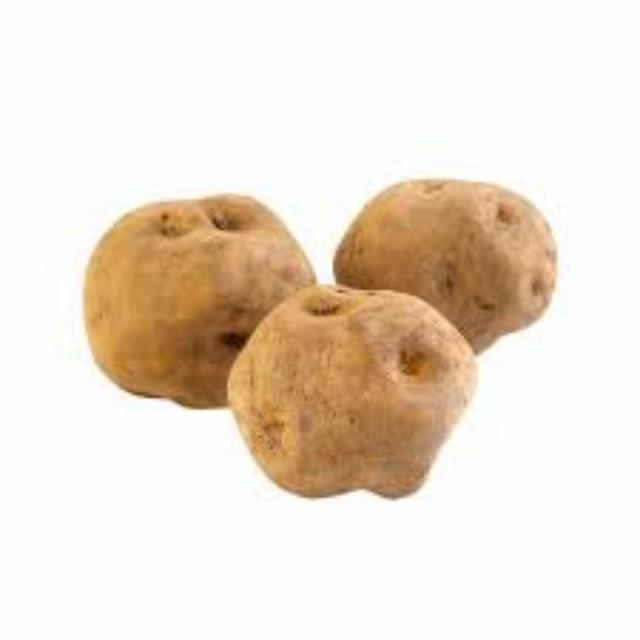Damaged potato: (210, 274, 488, 514), (68, 186, 322, 428), (322, 174, 568, 378)
